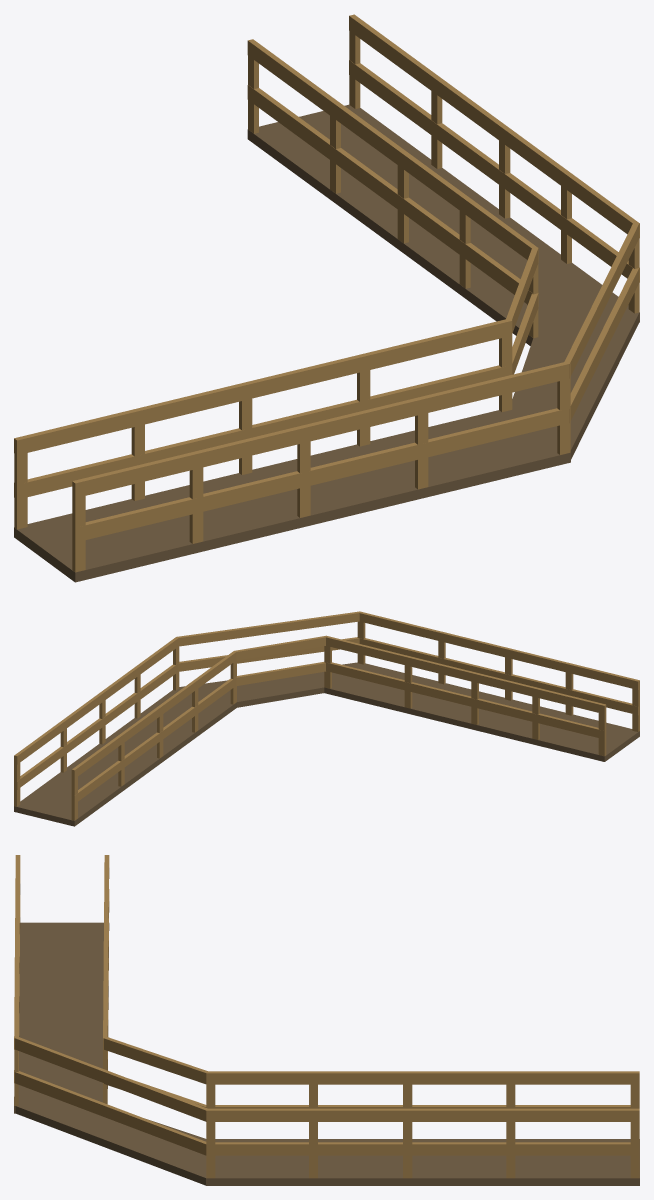
Rendered from Bridge2.fbx.
The picture shows the model from 3 angles, top to bottom: view 1: azimuth 30°, elevation 25°; view 2: azimuth 150°, elevation 25°; view 3: azimuth 270°, elevation 25°; orthographic projection. The views are drawn at different scales.
Parts seen in each view (by area): view 1: polySurface74; view 2: polySurface74; view 3: polySurface74.
Boxes of the visible parts, <box> form: polySurface74: <box>14,14,639,582</box>; polySurface74: <box>14,611,639,826</box>; polySurface74: <box>14,855,639,1185</box>.
Bounding box in the file's own units: 13.83 × 1.9 × 14.3.
